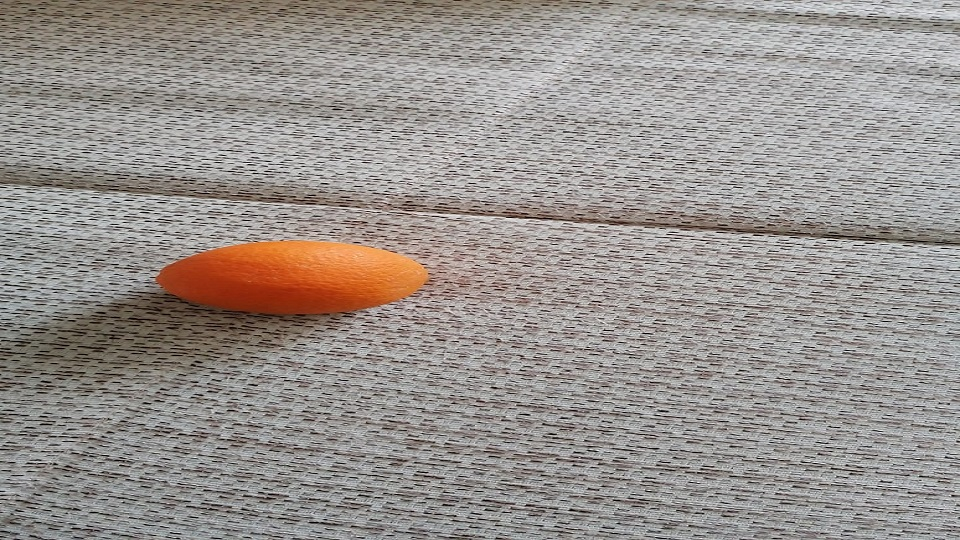portakal: (153, 238, 430, 316)
